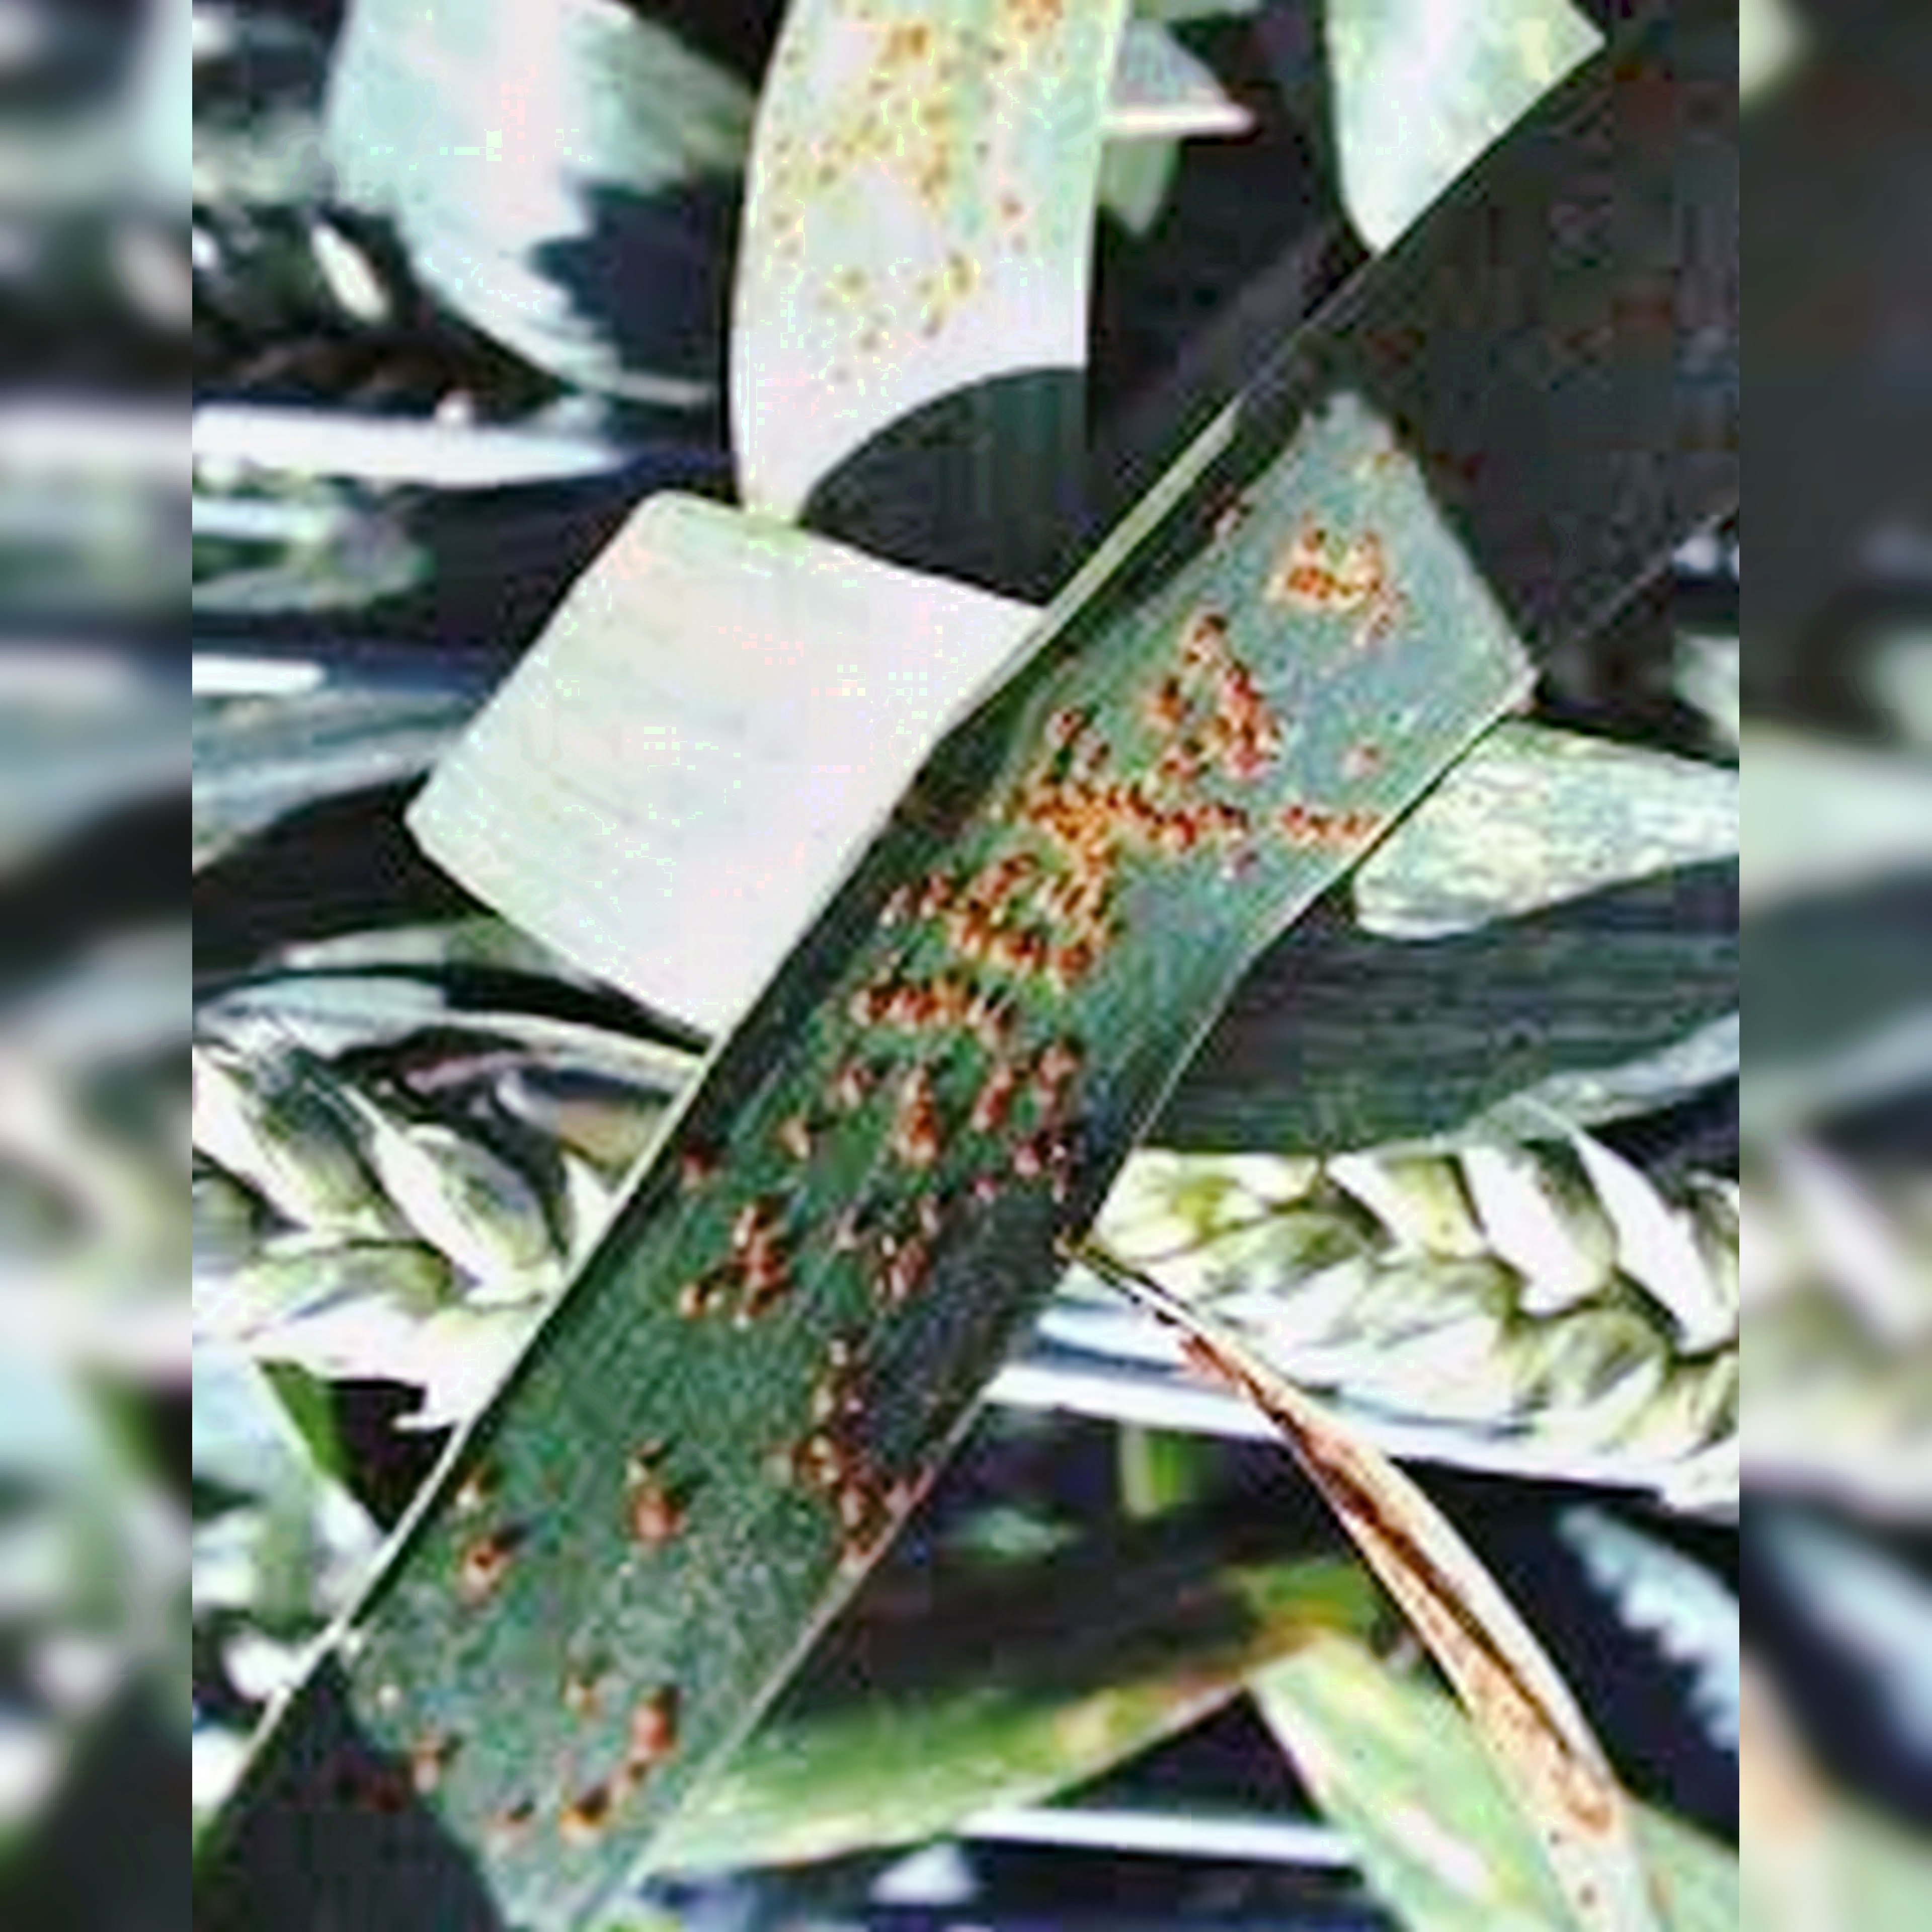Leaf Rust: (471, 502, 1465, 1743)
